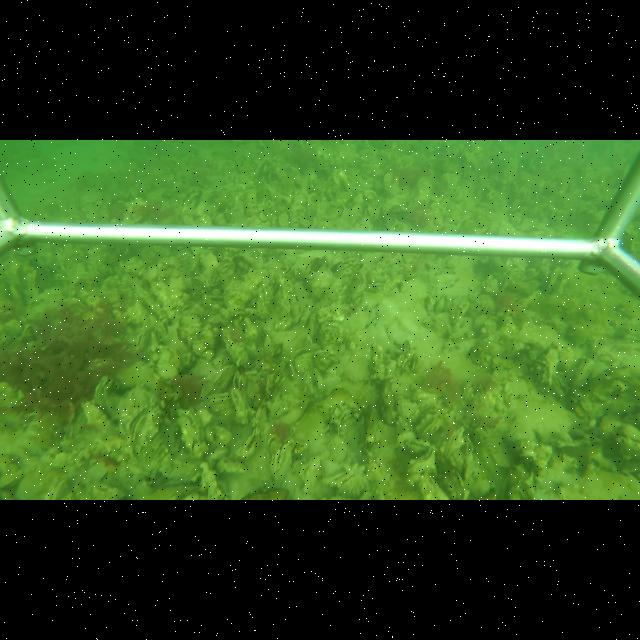Oyster-Closed: (125, 407, 176, 474), (268, 438, 296, 485), (178, 408, 203, 457), (407, 448, 437, 473), (212, 363, 236, 387)
Oyster-Open: (231, 424, 262, 461), (302, 369, 324, 396), (231, 372, 245, 390)
